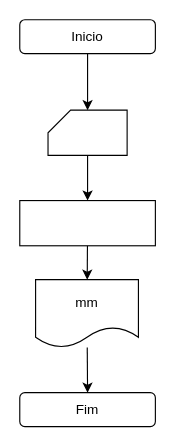
Image size: 175x446. Some labels were removed from this diagram. The box of each missing label's shape, as (x1, y1, x2, y2) in pixels:
mm <- Pol*25.4: (19, 199, 155, 246)
Pol: (47, 109, 127, 155)
